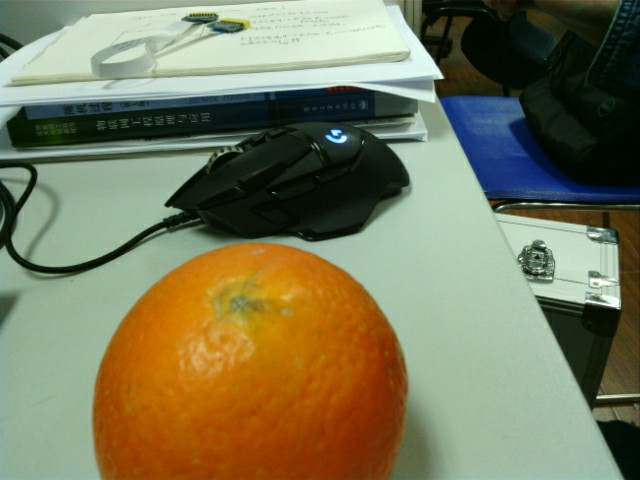normal_orange: (98, 247, 409, 480)
